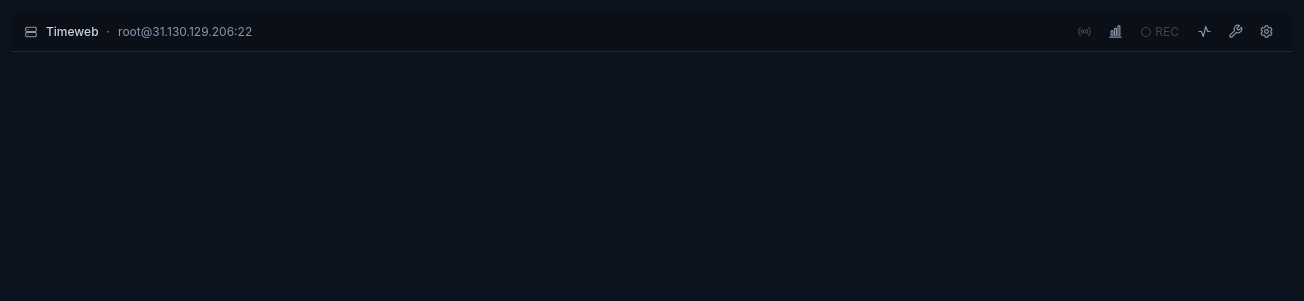
Test: TopBar — the user's buttons › right-click on a button offers to take it off — and does
Step 1. Right-click the button with test id "open-recordings" → {"x": 1204, "y": 32}, box [1191,18,1218,45]
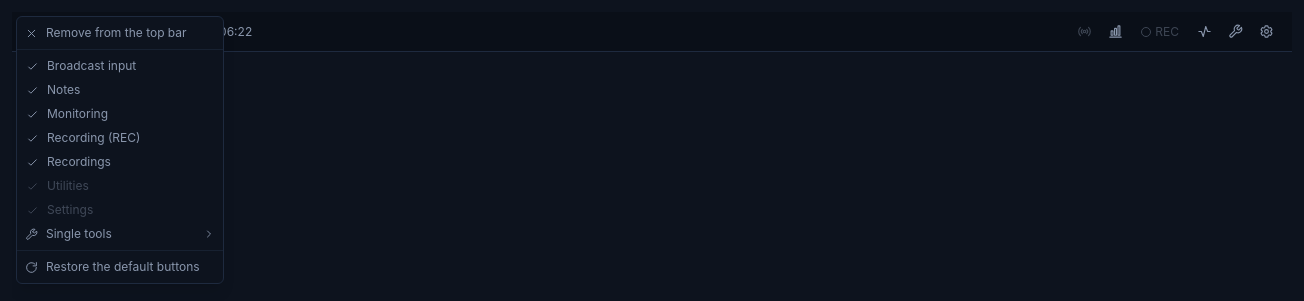
Step 2. Click the menu item "Remove from the top bar" → {"x": 120, "y": 33}, box [17,21,223,45]
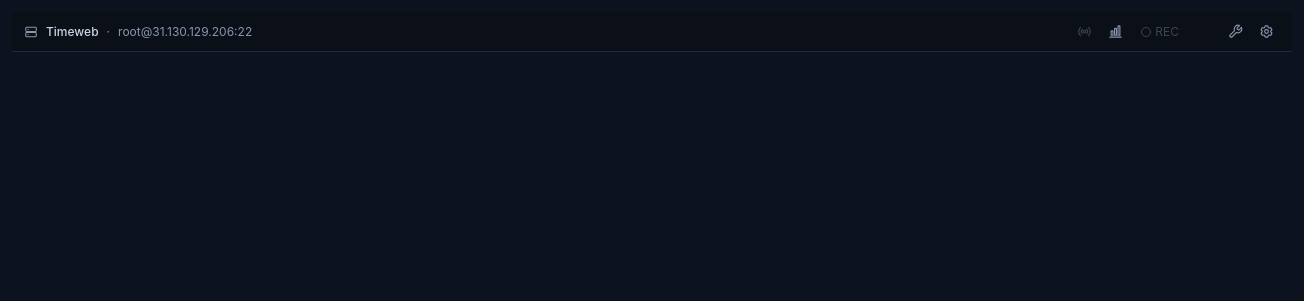
Check: the button with test id "open-recordings" is gone
Check: the menu is gone
